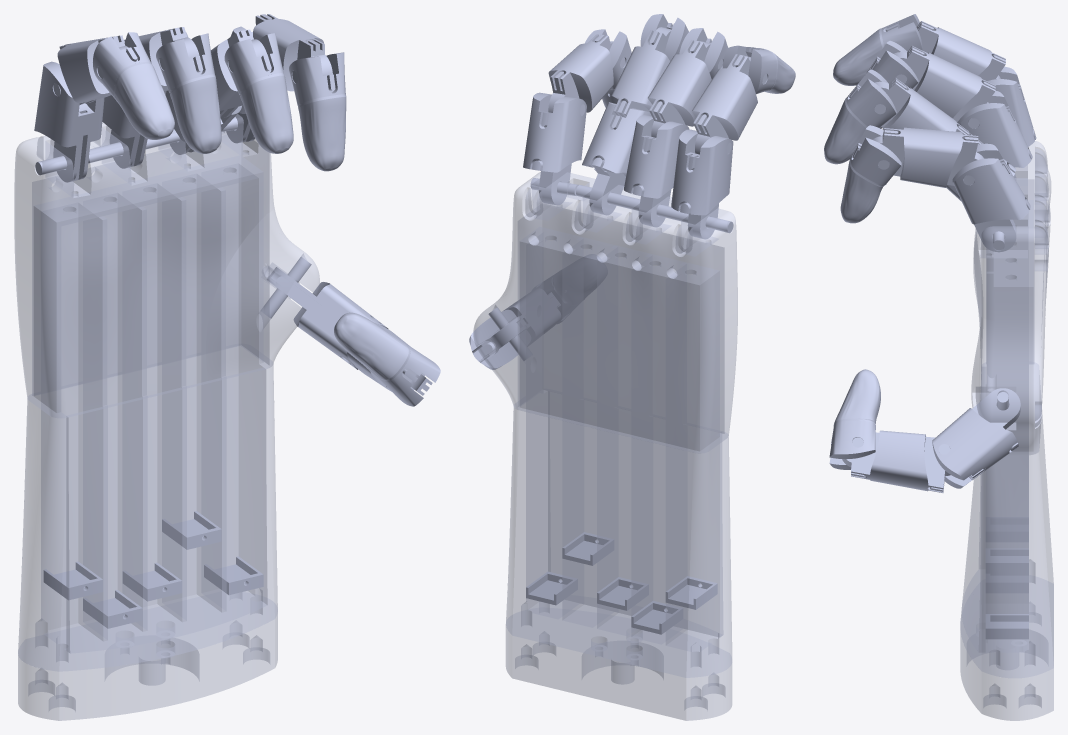
The model's file is hand.glb.
The picture shows the model from 3 angles, left to right: view 1: azimuth 30°, elevation 25°; view 2: azimuth 150°, elevation 25°; view 3: azimuth 270°, elevation 25°; orthographic projection. The views are drawn at different scales.
Visible parts, largest first — view 1: Wrist SPA Holder-1, Palm-1, Wrist Lid-1, Arm Mount-1, Fingertip-1 (×5), Proximal Phalanx-1 (×3), Distal Phalanx-1 (×5), Middle Phalanx-1 (×4), SPA Caps-2, SPA Caps-3, SPA Caps-5, SPA Caps-1 (+3 smaller); view 2: Wrist SPA Holder-1, Palm-1, Proximal Phalanx-1 (×5), Arm Mount-1, Middle Phalanx-1 (×5), Wrist Lid-1, Distal Phalanx-1 (×4), Fingertip-1 (×2), Main Proximal Pin-1, SPA Caps-2, SPA Caps-3, SPA Caps-1 (+2 smaller); view 3: Wrist SPA Holder-1, Middle Phalanx-1 (×5), Palm-1, Proximal Phalanx-1 (×4), Arm Mount-1, Distal Phalanx-1 (×5), Fingertip-1 (×4), Wrist Lid-1, SPA Caps-1, SPA Caps-3, SPA Caps-5.
Boxes of the visible parts, <box> form: Wrist SPA Holder-1: <box>18,156,277,671</box>; Palm-1: <box>14,114,319,417</box>; Wrist Lid-1: <box>66,368,267,653</box>; Arm Mount-1: <box>18,599,277,720</box>; Fingertip-1 (×5): <box>113,62,410,380</box>; Proximal Phalanx-1 (×3): <box>34,61,388,369</box>; Distal Phalanx-1 (×5): <box>93,32,440,406</box>; Middle Phalanx-1 (×4): <box>57,14,332,117</box>; SPA Caps-2: <box>43,561,103,599</box>; SPA Caps-3: <box>162,511,221,549</box>; SPA Caps-5: <box>123,562,182,601</box>; SPA Caps-1: <box>204,556,263,594</box>; Wrist SPA Holder-1: <box>506,227,731,677</box>; Palm-1: <box>473,172,737,453</box>; Proximal Phalanx-1 (×5): <box>469,92,733,369</box>; Arm Mount-1: <box>506,612,731,720</box>; Middle Phalanx-1 (×5): <box>503,27,757,333</box>; Wrist Lid-1: <box>548,417,723,636</box>; Distal Phalanx-1 (×4): <box>585,14,776,94</box>; Fingertip-1 (×2): <box>552,48,795,298</box>; Main Proximal Pin-1: <box>576,185,733,233</box>; SPA Caps-2: <box>665,576,717,609</box>; SPA Caps-3: <box>562,532,613,565</box>; SPA Caps-1: <box>526,571,577,605</box>; Wrist SPA Holder-1: <box>960,200,1053,677</box>; Middle Phalanx-1 (×5): <box>842,21,1005,492</box>; Palm-1: <box>971,141,1050,454</box>; Proximal Phalanx-1 (×4): <box>932,66,1036,488</box>; Arm Mount-1: <box>960,577,1053,720</box>; Distal Phalanx-1 (×5): <box>829,14,922,469</box>; Fingertip-1 (×4): <box>824,28,886,426</box>; Wrist Lid-1: <box>962,367,985,652</box>; SPA Caps-1: <box>985,614,1028,639</box>; SPA Caps-3: <box>986,548,1028,573</box>; SPA Caps-5: <box>986,574,1028,592</box>.
Bounding box in the file's own units: 0.1404 × 0.2886 × 0.098.
